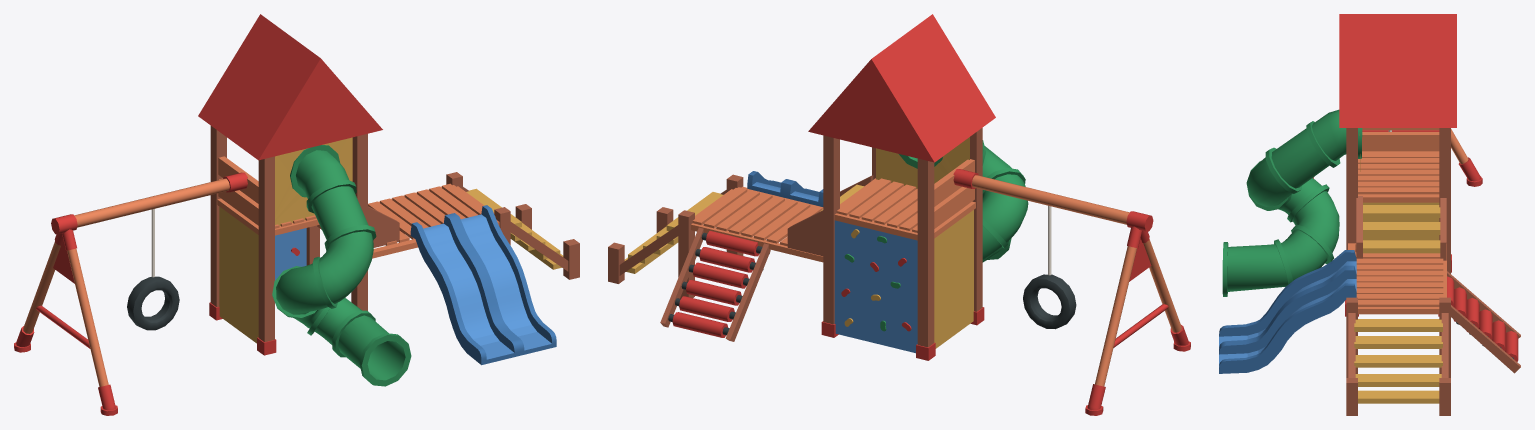
File: Castle_03.fbx
3 views of the same model, side by side, from view 1: azimuth 30°, elevation 25°; view 2: azimuth 150°, elevation 25°; view 3: azimuth 270°, elevation 25° (orthographic). The views are drawn at different scales.
Visible parts, largest first — view 1: Castle_03, Swing_Tire_01; view 2: Castle_03, Swing_Tire_01; view 3: Castle_03.
Part boxes in pixels (<box>): Castle_03: <box>14,14,579,415</box>; Swing_Tire_01: <box>127,209,179,330</box>; Castle_03: <box>608,14,1190,415</box>; Swing_Tire_01: <box>1023,205,1076,329</box>; Castle_03: <box>1219,14,1520,415</box>.
Size of the model in its own units: 7.62 by 4.16 by 4.09.
